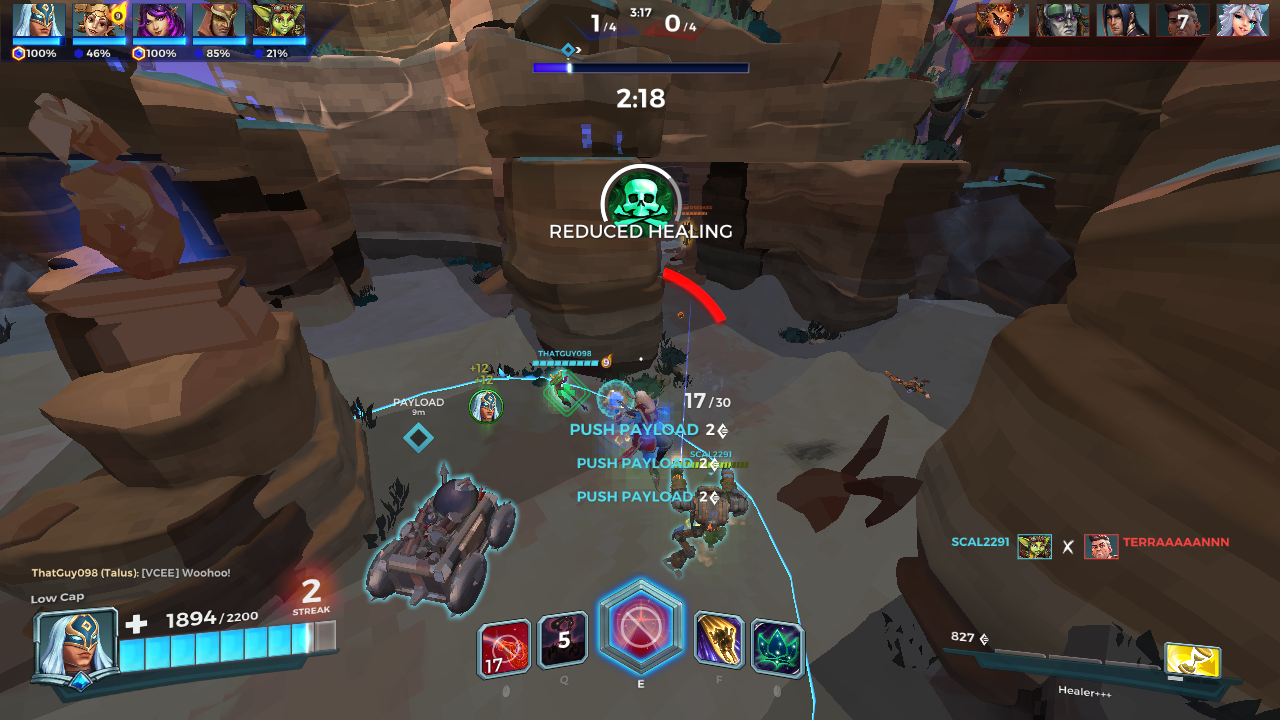model: (680, 221, 694, 244)
